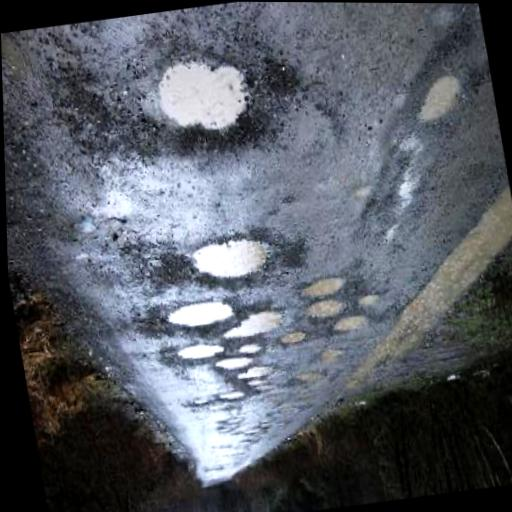pothole: (141, 51, 269, 160), (183, 232, 283, 293), (161, 296, 240, 339), (411, 75, 470, 128), (220, 307, 289, 345), (296, 274, 350, 304), (175, 340, 230, 369), (305, 297, 349, 322), (330, 314, 373, 337), (235, 365, 277, 384), (216, 356, 257, 375), (218, 390, 247, 406), (281, 333, 309, 349)
